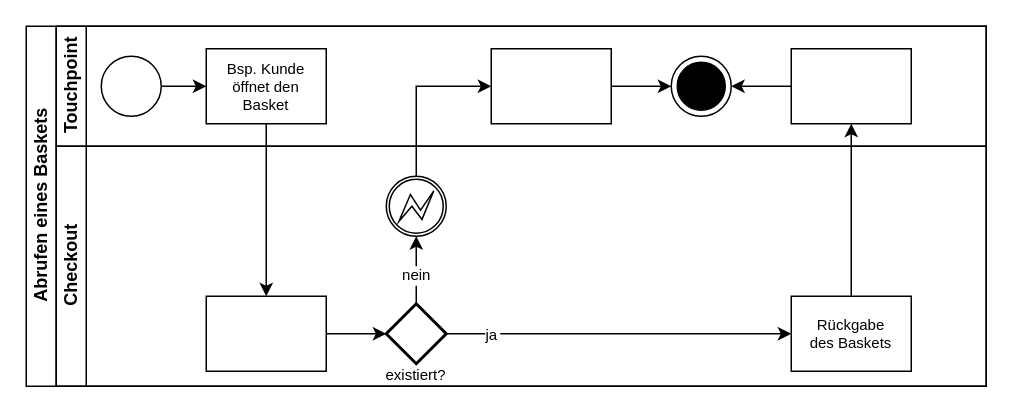
Some shapes in this 1011 by 411 pixel diagram are drawn without their labels. Here are the shapes that lost their labels. From the top down, the centre of each, then its label:
At pixel 550 85: "Verarbeitung des Fehlercodes".
At pixel 850 85: "Anzeigen des Baskets".
At pixel 265 333: "Suche des Baskets anhand Basket ID".
